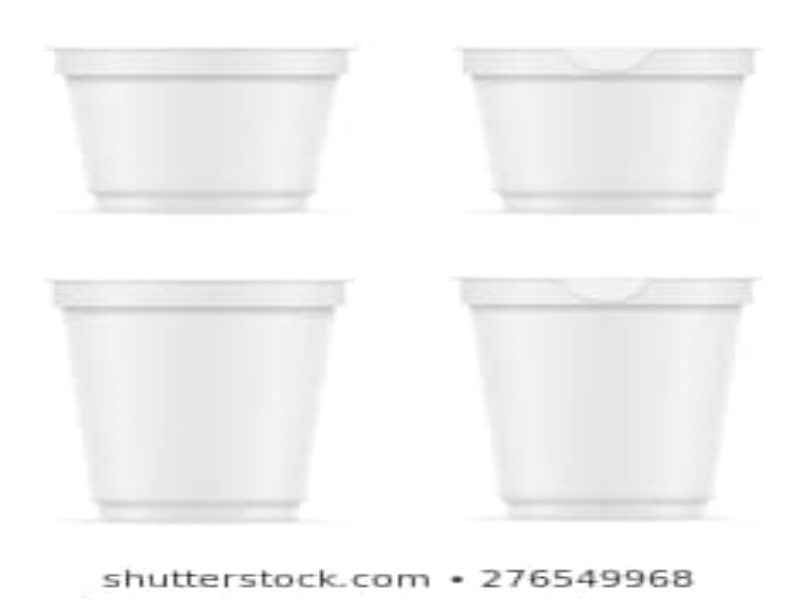yogurt-cup: (459, 267, 763, 525), (47, 269, 345, 525), (44, 40, 354, 215), (457, 36, 761, 214)
